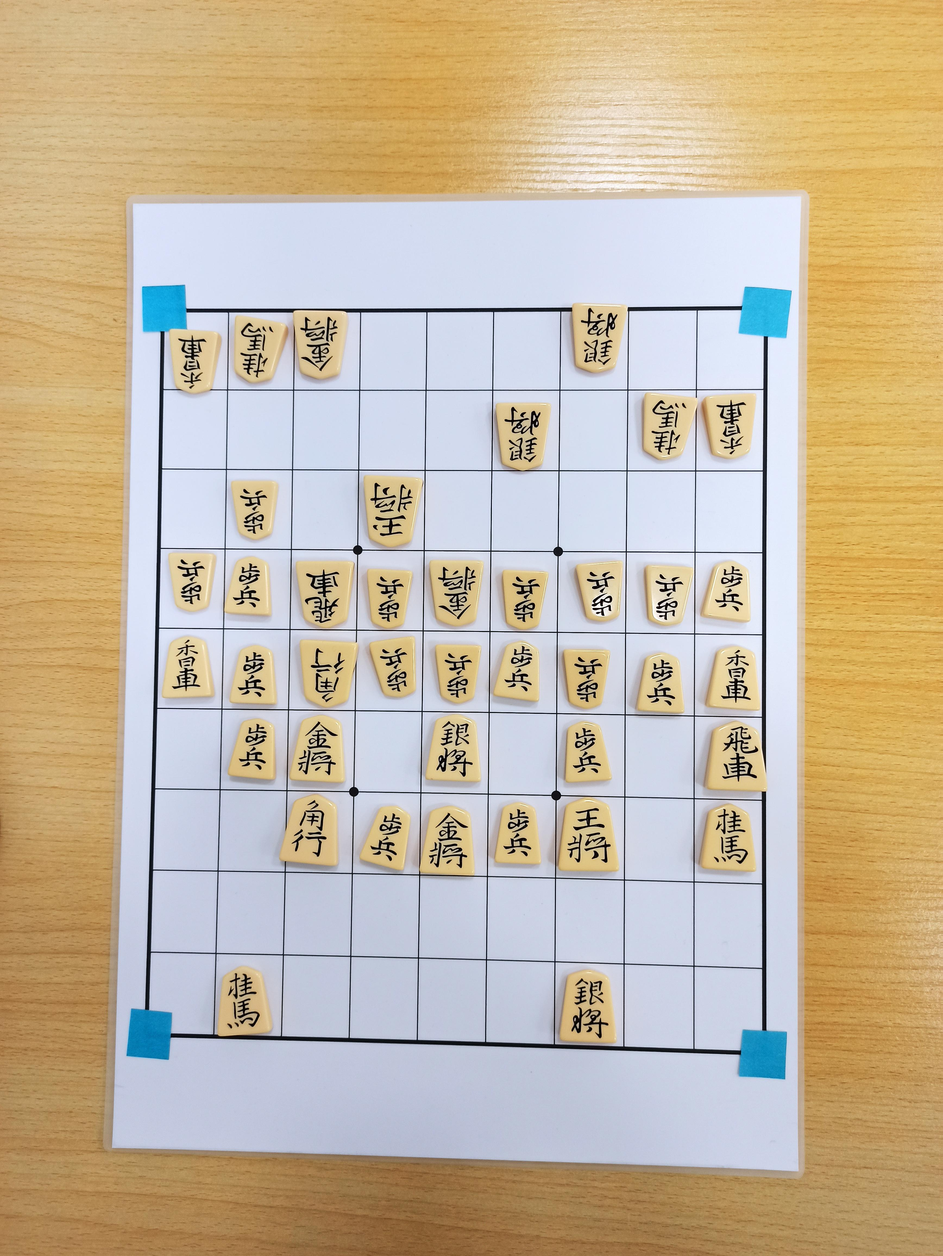board: (145, 308, 766, 1056)
